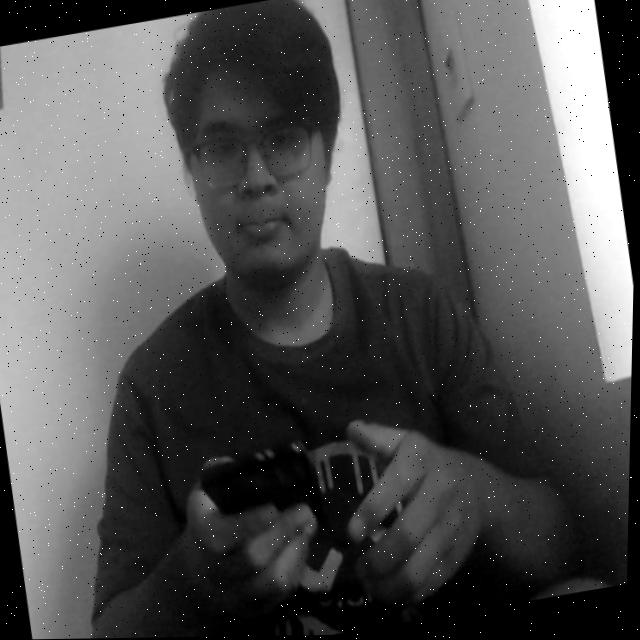phone: (195, 426, 334, 569)
